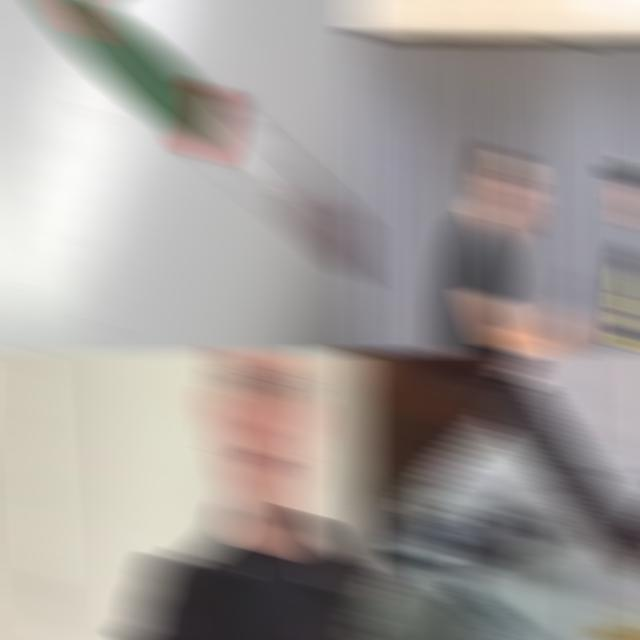Knife: (35, 0, 368, 284), (478, 380, 640, 582)
Knife_Handle: (348, 350, 640, 620), (0, 350, 114, 640), (549, 266, 600, 346)
